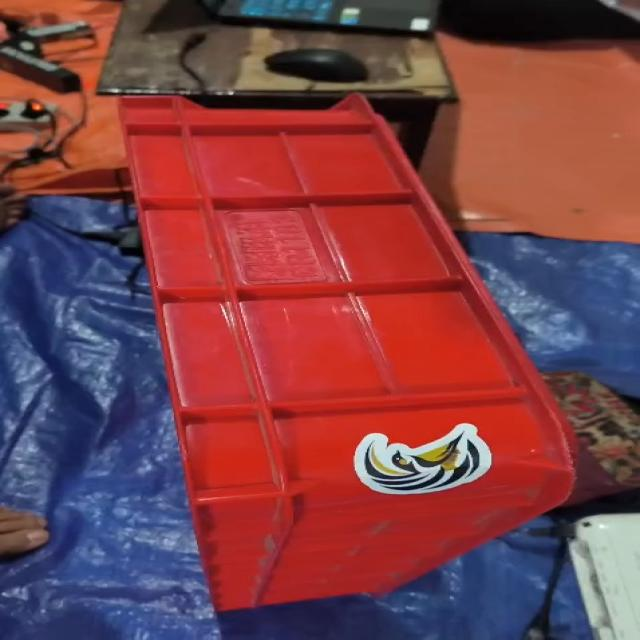red plastic box: (117, 93, 576, 612)
